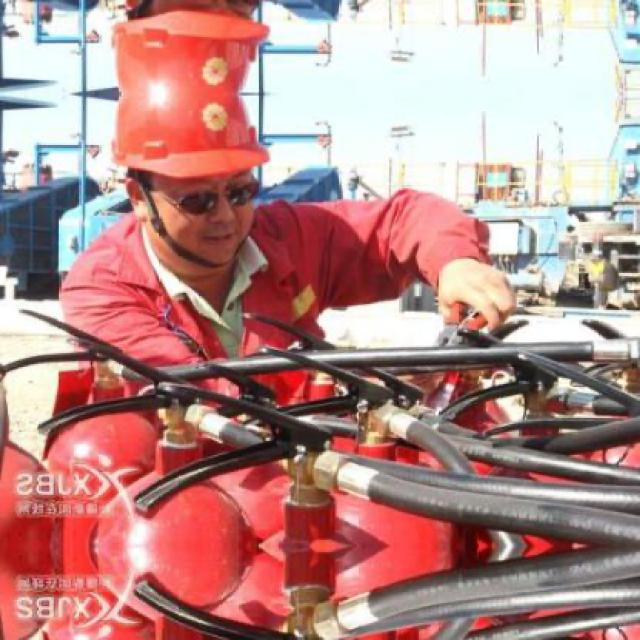con casco: (97, 72, 274, 181)
